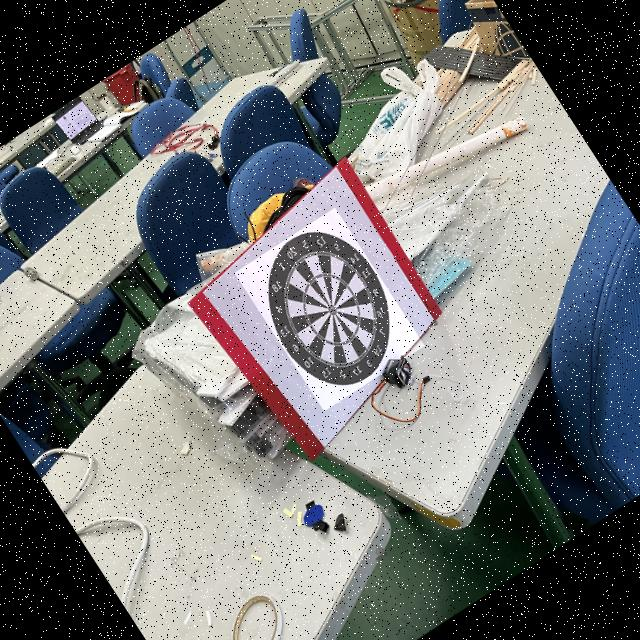archery-targets: (235, 207, 424, 410)
